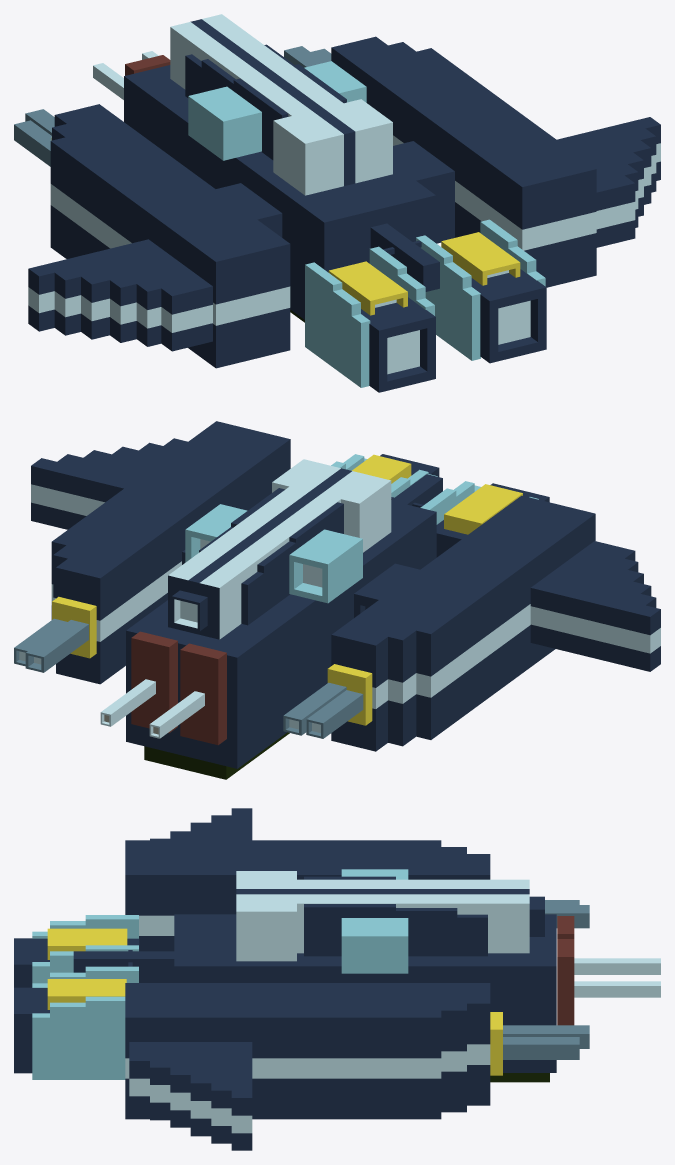
The model's file is Tank_shooter_blue_spaceship.fbx.
3 views of the same model, one above another, from view 1: azimuth 30°, elevation 25°; view 2: azimuth 150°, elevation 25°; view 3: azimuth 270°, elevation 25° (orthographic). The views are drawn at different scales.
Parts seen in each view (by area): view 1: polySurface225; view 2: polySurface225; view 3: polySurface225.
Part boxes in pixels (x1,y1,x2,y2): polySurface225: (14, 14, 660, 392); polySurface225: (14, 421, 660, 779); polySurface225: (14, 808, 660, 1150).
Size of the model in its own units: 147 by 40.77 by 139.
